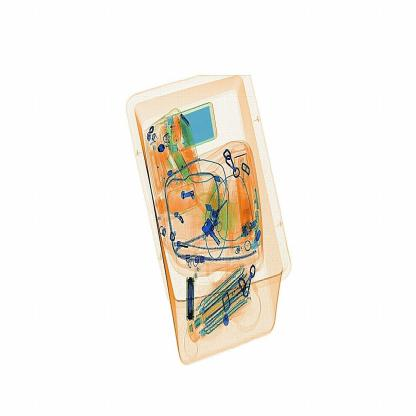scissors: (184, 274, 198, 323)
